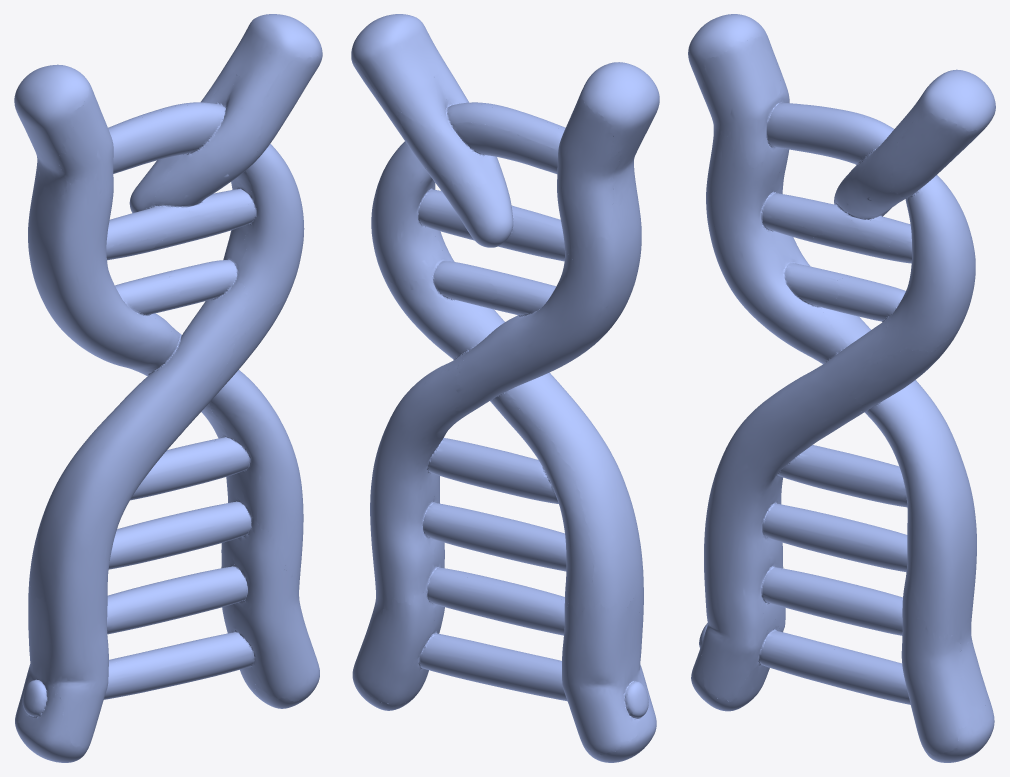
The model's file is ciencias-naturales.glb.
3 renders of one model, left to right at view 1: azimuth 30°, elevation 25°; view 2: azimuth 150°, elevation 25°; view 3: azimuth 330°, elevation 25°, orthographic.
Parts seen in each view (by area): view 1: model; view 2: model; view 3: model.
Boxes of the visible parts, <box> form: model: <box>14,14,322,762</box>; model: <box>351,14,659,762</box>; model: <box>688,14,995,762</box>.
Size of the model in its own units: 0.7715 by 1.74 by 0.2141.
